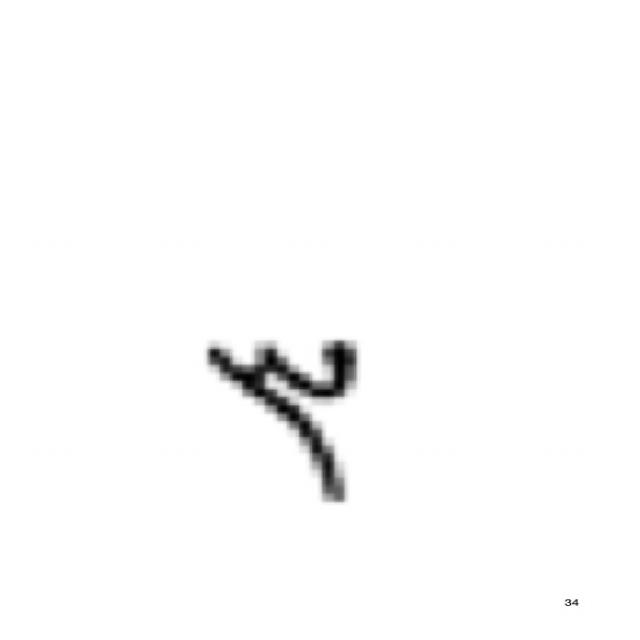3 -three-: (188, 321, 376, 517)
